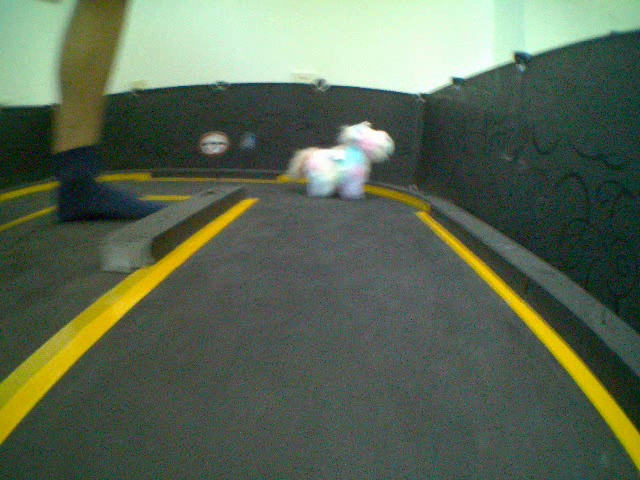unicorn: (288, 121, 397, 202)
